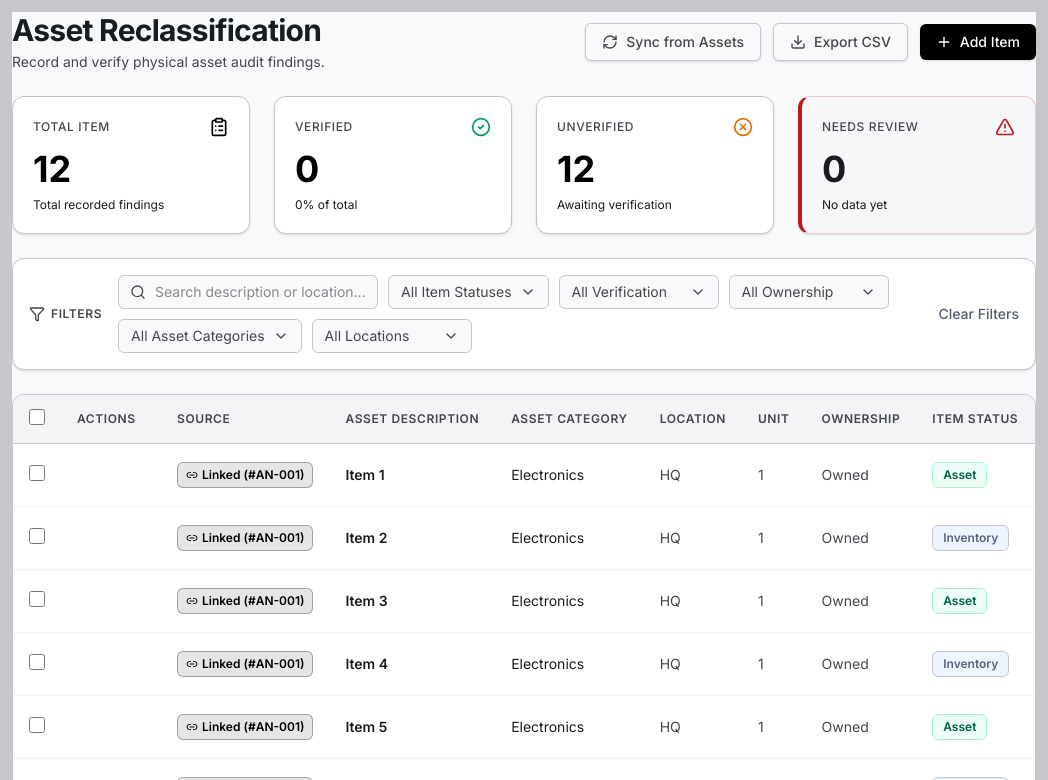
Test: Reclassification — row selection › select-all covers every filtered row, not just the visible page
The width and height of the screenshot is (1048, 780).
Click the checkbox next to "Actions" at (37, 417), box [29,409,45,425]
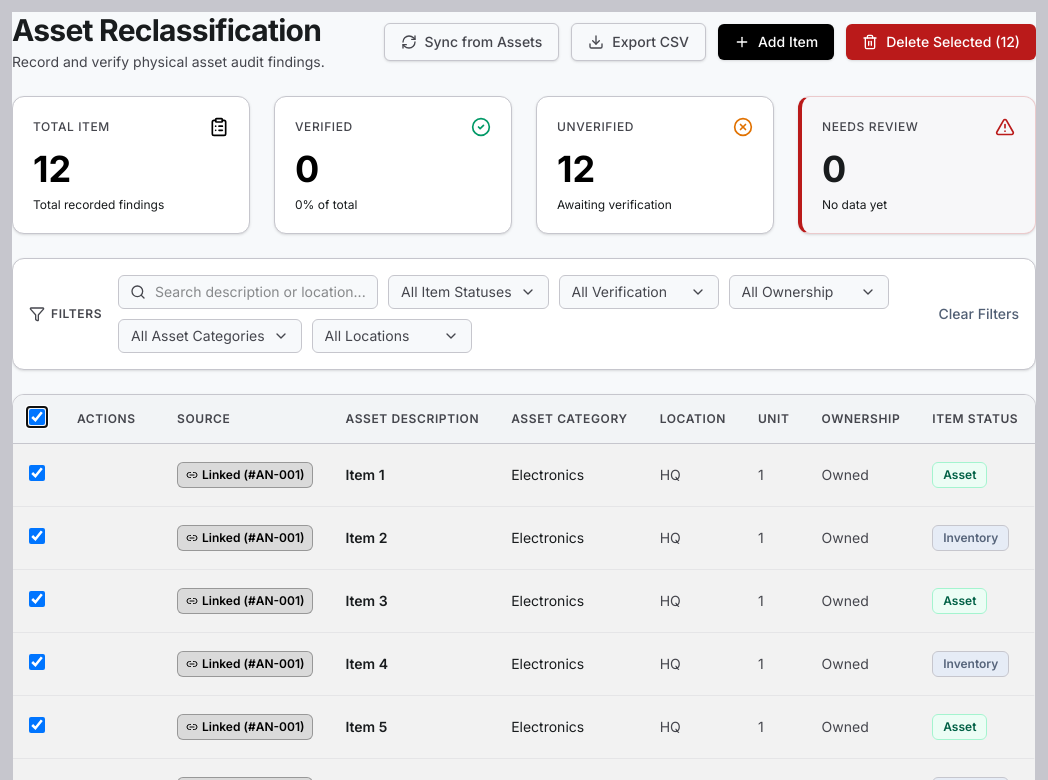
Expected: the button "Delete Selected (12)" is shown, [846,24,1036,60]
